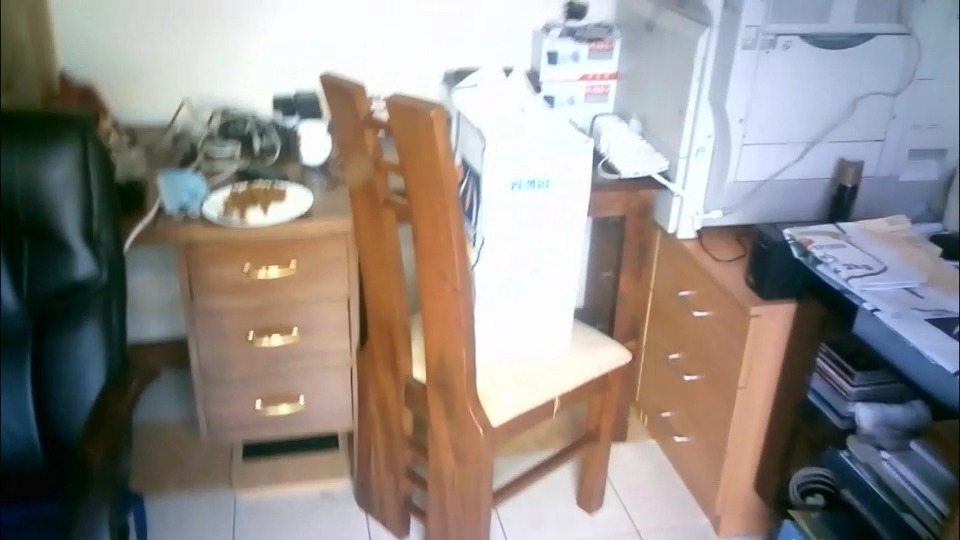wheat_flour_blue_label: (461, 54, 625, 302)
